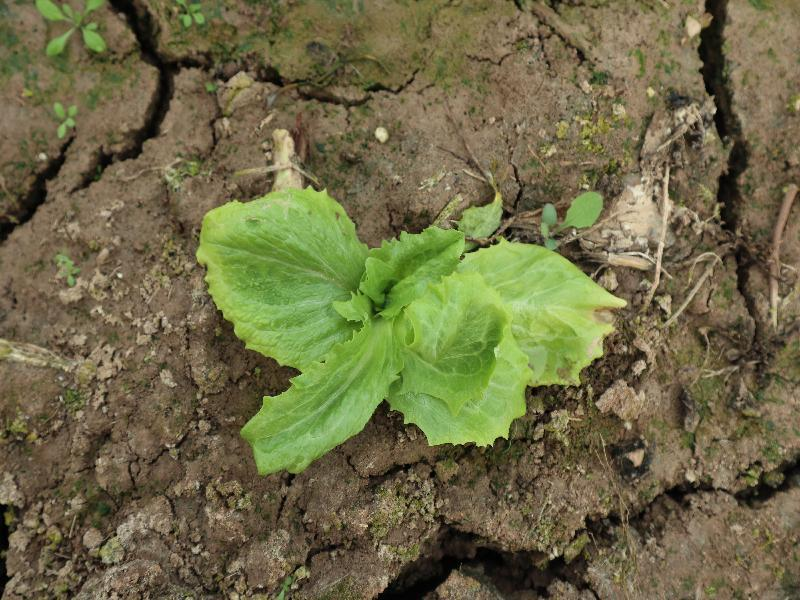lettuce: (196, 183, 625, 474)
